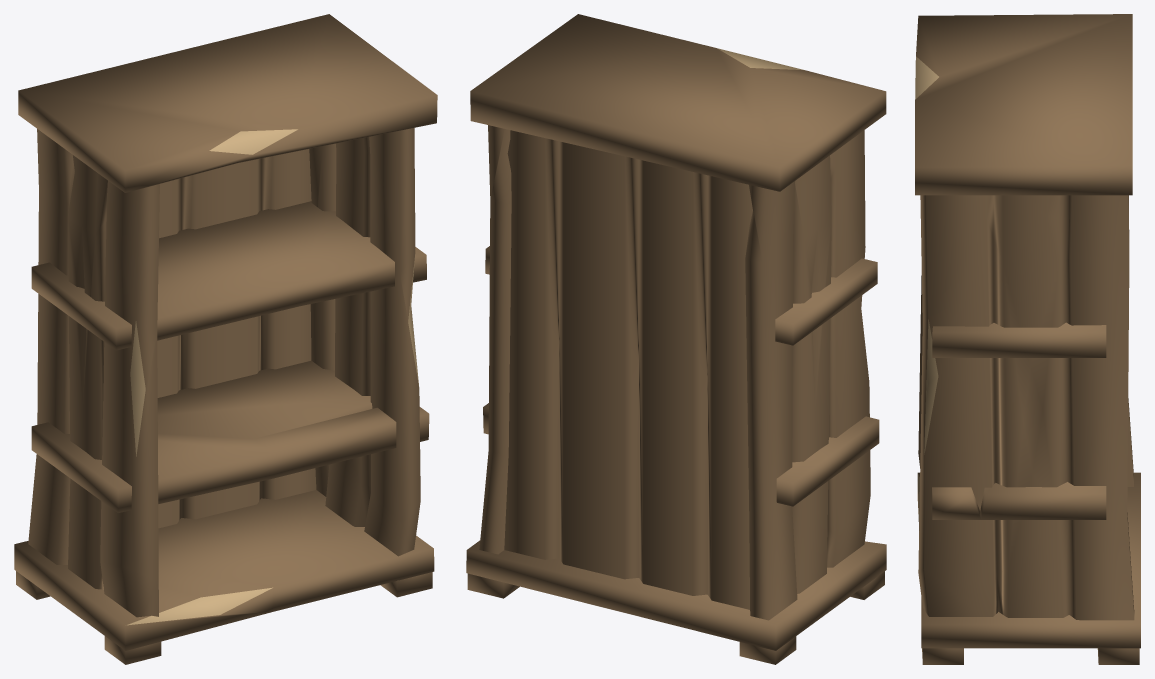
Rendered from rpgpp_ag_shelf_wood_07a.fbx.
3 renders of one model, left to right at view 1: azimuth 30°, elevation 25°; view 2: azimuth 150°, elevation 25°; view 3: azimuth 270°, elevation 25°, orthographic.
Visible parts, largest first — view 1: rpgpp_ag_shelf_wood_07a; view 2: rpgpp_ag_shelf_wood_07a; view 3: rpgpp_ag_shelf_wood_07a.
Boxes of the visible parts, <box> form: rpgpp_ag_shelf_wood_07a: <box>14,14,437,664</box>; rpgpp_ag_shelf_wood_07a: <box>466,14,886,664</box>; rpgpp_ag_shelf_wood_07a: <box>915,14,1140,664</box>.
Bounding box in the file's own units: 1.13 × 1.72 × 0.7061.
